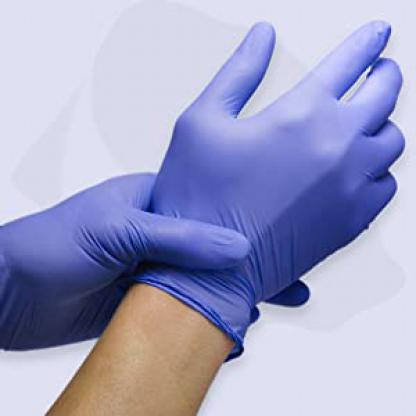with_gloves: (130, 13, 404, 337), (1, 171, 248, 383)
